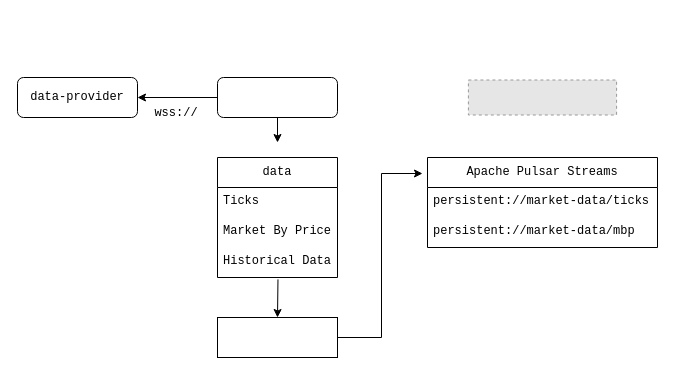
The diagram is 675 pixels wide and 375 high, and some of its shapes have lost their labels. Grey dashed boxes stand in for pictures. The centre of each missing label's shape, as x and y in pixels:
"Normalization" belongs at pixel 277 337.
"service-ingest" belongs at pixel 277 97.
